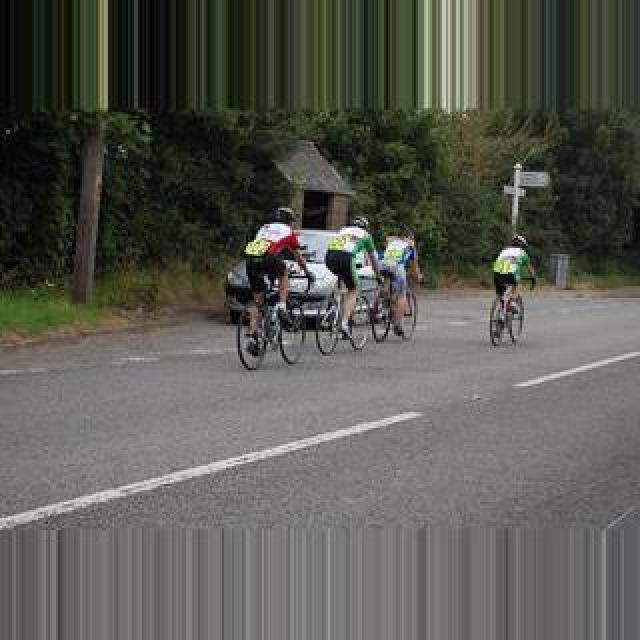MC-Bike: (240, 206, 312, 328), (324, 218, 386, 340), (376, 226, 422, 330), (492, 234, 534, 334)
Person: (322, 239, 390, 351), (238, 290, 306, 370), (316, 278, 370, 354), (372, 269, 418, 343), (490, 283, 524, 347)
